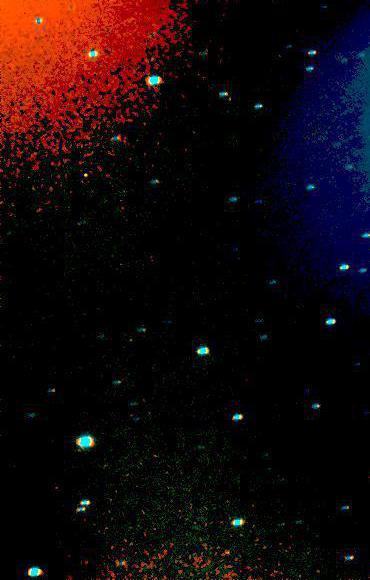star: (71, 162, 101, 192)
